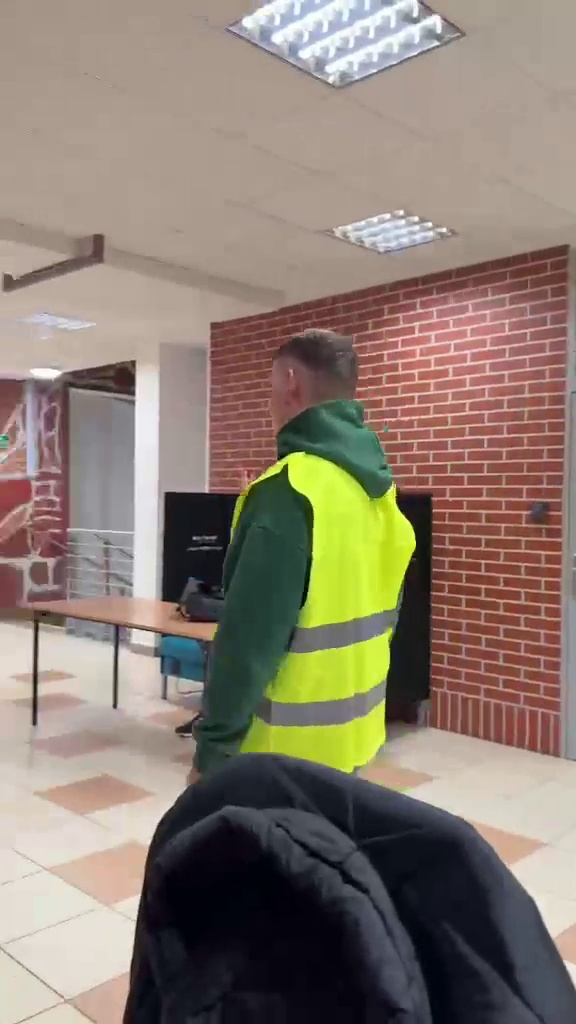vest: (225, 322, 410, 770)
